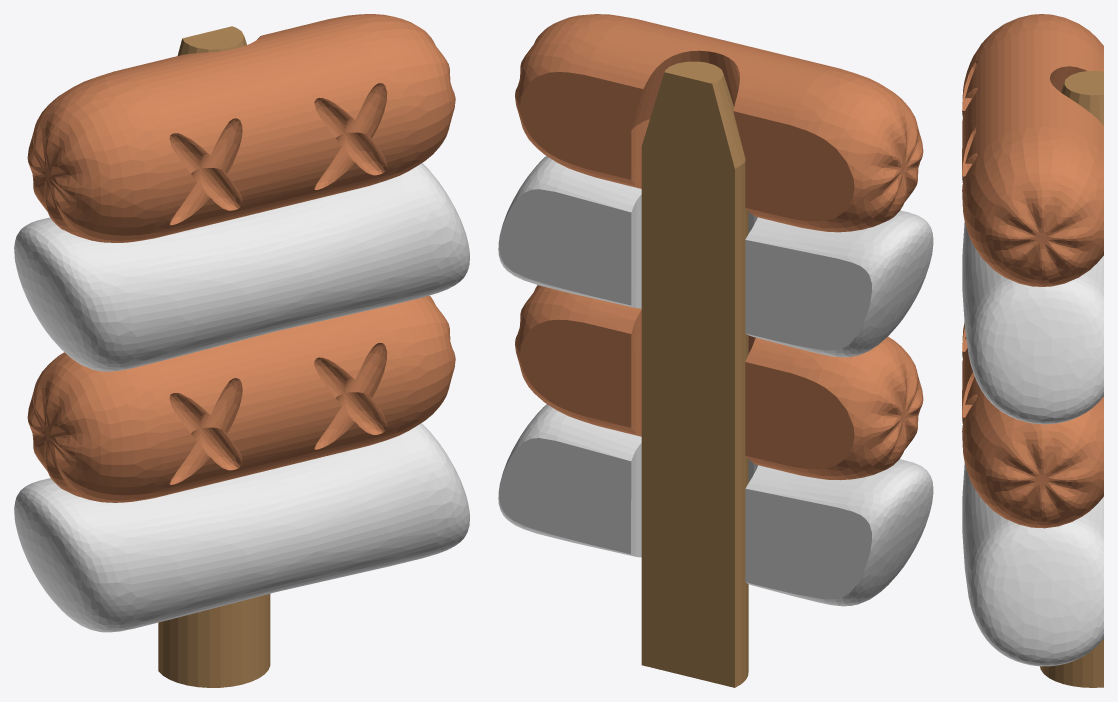
The model's file is sodduck.glb.
3 views of the same model, side by side, from view 1: azimuth 30°, elevation 25°; view 2: azimuth 150°, elevation 25°; view 3: azimuth 270°, elevation 25° (orthographic). The views are drawn at different scales.
Visible parts, largest first — view 1: Circle.081; view 2: Circle.081; view 3: Circle.081.
Part boxes in pixels (x1,y1,x2,y2): Circle.081: (14,14,469,687); Circle.081: (498,14,933,687); Circle.081: (962,14,1103,687).
Bounding box in the file's own units: 10.57 × 15.16 × 3.32.
